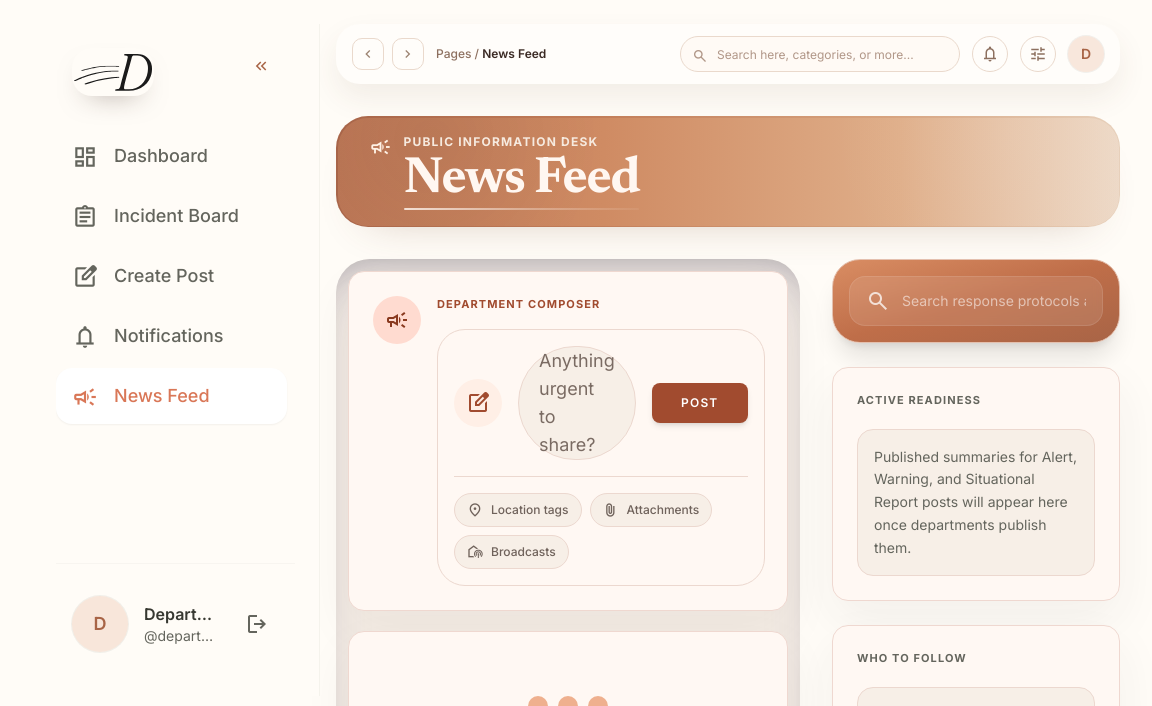
DepartmentNewsFeedPage › opens the create post modal from the feed
The image size is (1152, 706).
Step 1. Click the button "Post" → (700, 403), box [652,383,748,423]
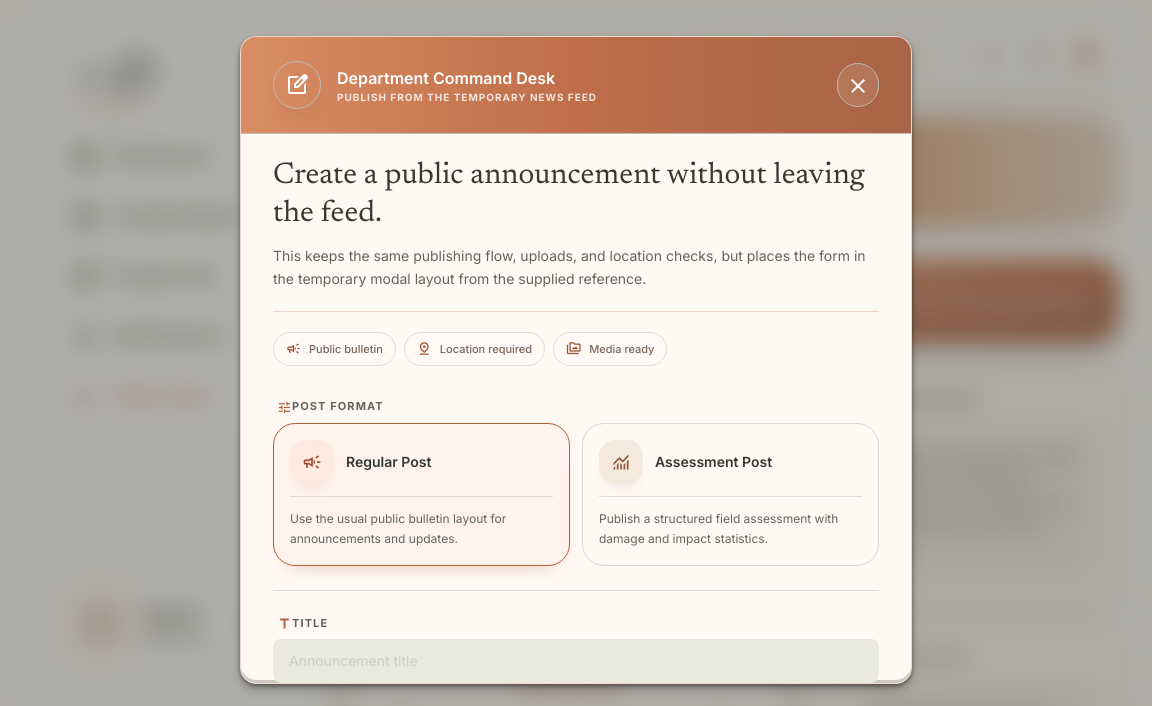
expect the text "Department Command Desk" is shown: met, box [337,68,555,88]
expect the text "Create a public announcement without leaving the feed." is shown: met, box [273,158,879,233]
